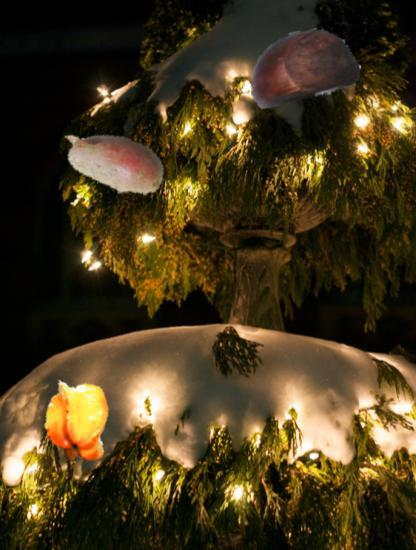Carambula: (32, 375, 122, 465)
Chestnut: (245, 8, 360, 123)
Potato: (54, 105, 168, 219)
